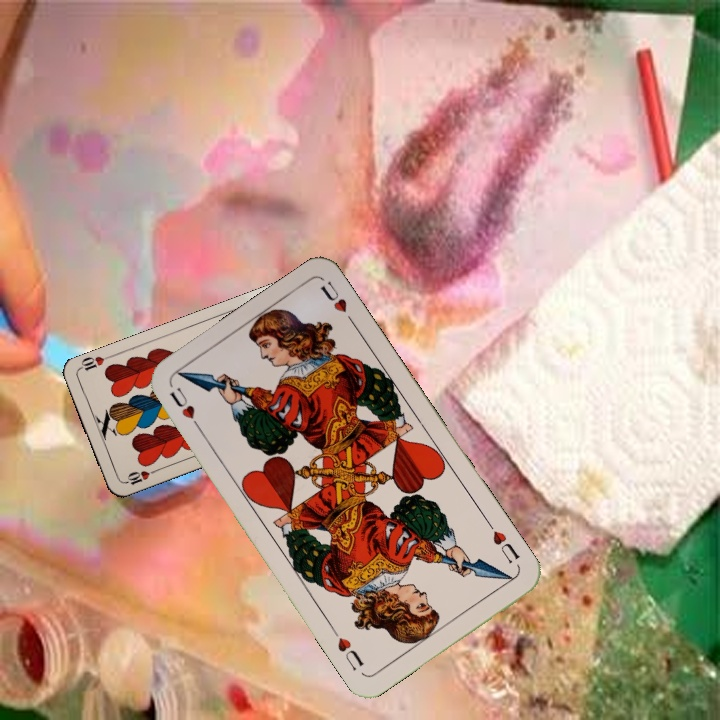H10: (120, 466, 159, 488)
HU: (165, 383, 205, 435), (483, 518, 522, 567)
